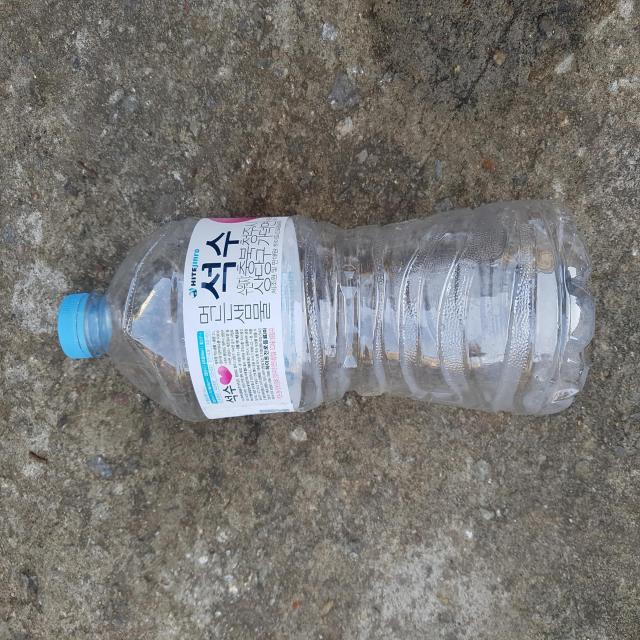plastic: (57, 200, 596, 421)
